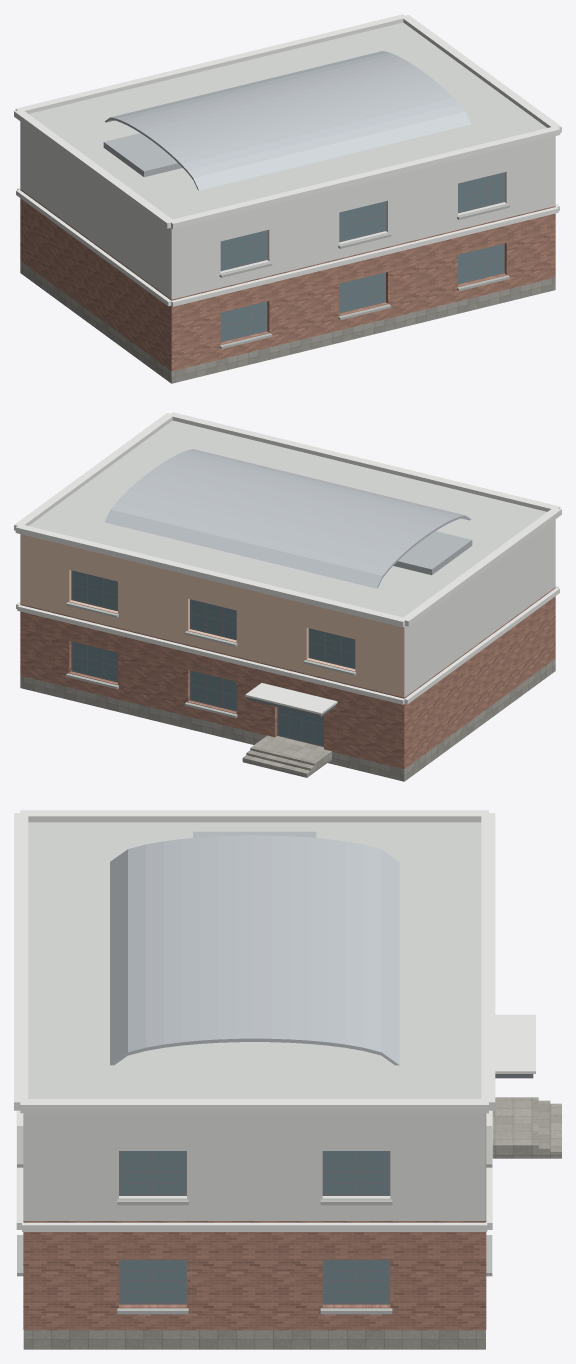
The picture shows the model from 3 angles, top to bottom: view 1: azimuth 30°, elevation 25°; view 2: azimuth 150°, elevation 25°; view 3: azimuth 270°, elevation 25°; orthographic projection. The views are drawn at different scales.
Visible parts, largest first — view 1: judogwan__panel, judogwan__brick, judogwan__metalroof, judogwan__roof, judogwan__cap, judogwan__sideglass, judogwan__stone, judogwan__frame, judogwan__steel, judogwan__sill; view 2: judogwan__brick, judogwan__metalroof, judogwan__roof, judogwan__basepaint, judogwan__cap, judogwan__panel, judogwan__glass, judogwan__stone, judogwan__frame, judogwan__steel, judogwan__stair-front, judogwan__sill (+1 smaller); view 3: judogwan__roof, judogwan__metalroof, judogwan__panel, judogwan__brick, judogwan__cap, judogwan__sideglass, judogwan__stone, judogwan__frame, judogwan__sill, judogwan__threshold-front, judogwan__stair-front, judogwan__steel.
Part boxes in pixels (x1=…): judogwan__panel: x1=20, y1=121, x2=555, y2=299; judogwan__brick: x1=20, y1=189, x2=555, y2=370; judogwan__metalroof: x1=105, y1=51, x2=470, y2=190; judogwan__roof: x1=29, y1=22, x2=546, y2=219; judogwan__cap: x1=14, y1=14, x2=561, y2=306; judogwan__sideglass: x1=220, y1=172, x2=503, y2=340; judogwan__stone: x1=20, y1=261, x2=555, y2=383; judogwan__frame: x1=220, y1=172, x2=504, y2=342; judogwan__steel: x1=103, y1=133, x2=182, y2=177; judogwan__sill: x1=219, y1=204, x2=509, y2=348; judogwan__brick: x1=20, y1=587, x2=555, y2=768; judogwan__metalroof: x1=105, y1=449, x2=470, y2=588; judogwan__roof: x1=29, y1=420, x2=546, y2=617; judogwan__basepaint: x1=20, y1=534, x2=404, y2=697; judogwan__cap: x1=14, y1=412, x2=561, y2=714; judogwan__panel: x1=20, y1=519, x2=555, y2=697; judogwan__glass: x1=72, y1=570, x2=355, y2=745; judogwan__stone: x1=20, y1=659, x2=555, y2=781; judogwan__frame: x1=71, y1=570, x2=355, y2=746; judogwan__steel: x1=393, y1=531, x2=472, y2=575; judogwan__stair-front: x1=242, y1=745, x2=318, y2=777; judogwan__sill: x1=66, y1=602, x2=356, y2=718; judogwan__roof: x1=28, y1=822, x2=481, y2=1098; judogwan__metalroof: x1=110, y1=835, x2=399, y2=1065; judogwan__panel: x1=23, y1=1113, x2=485, y2=1220; judogwan__brick: x1=23, y1=1220, x2=486, y2=1330; judogwan__cap: x1=14, y1=810, x2=535, y2=1231; judogwan__sideglass: x1=121, y1=1151, x2=387, y2=1302; judogwan__stone: x1=23, y1=1330, x2=485, y2=1349; judogwan__frame: x1=119, y1=1151, x2=390, y2=1304; judogwan__sill: x1=17, y1=1126, x2=492, y2=1314; judogwan__threshold-front: x1=492, y1=1097, x2=526, y2=1158; judogwan__stair-front: x1=527, y1=1097, x2=561, y2=1158; judogwan__steel: x1=193, y1=831, x2=316, y2=837.
Size of the model in its own units: 22.62 by 9.64 by 17.78.
14 materials, 2 textured.
